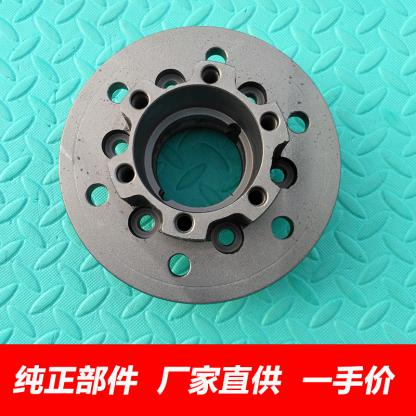FOD: (54, 23, 353, 308)
